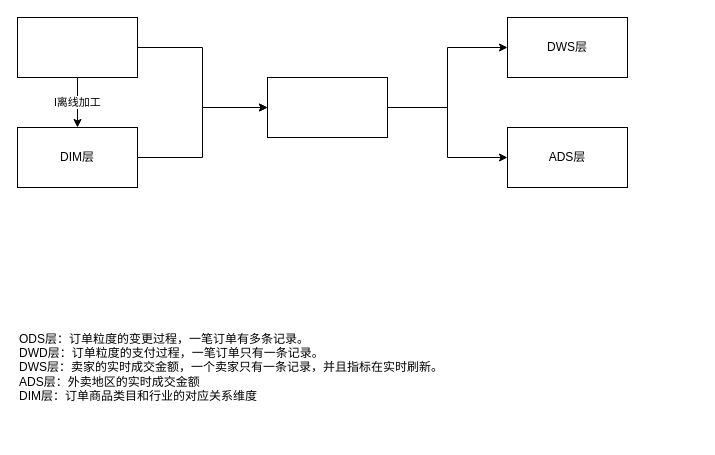
The diagram is 715 pixels wide and 455 high, and some of its shapes have lost their labels. Each missing label, with the centre of its shape:
DWD层: the point at 327,107
ODS层: the point at 77,47
